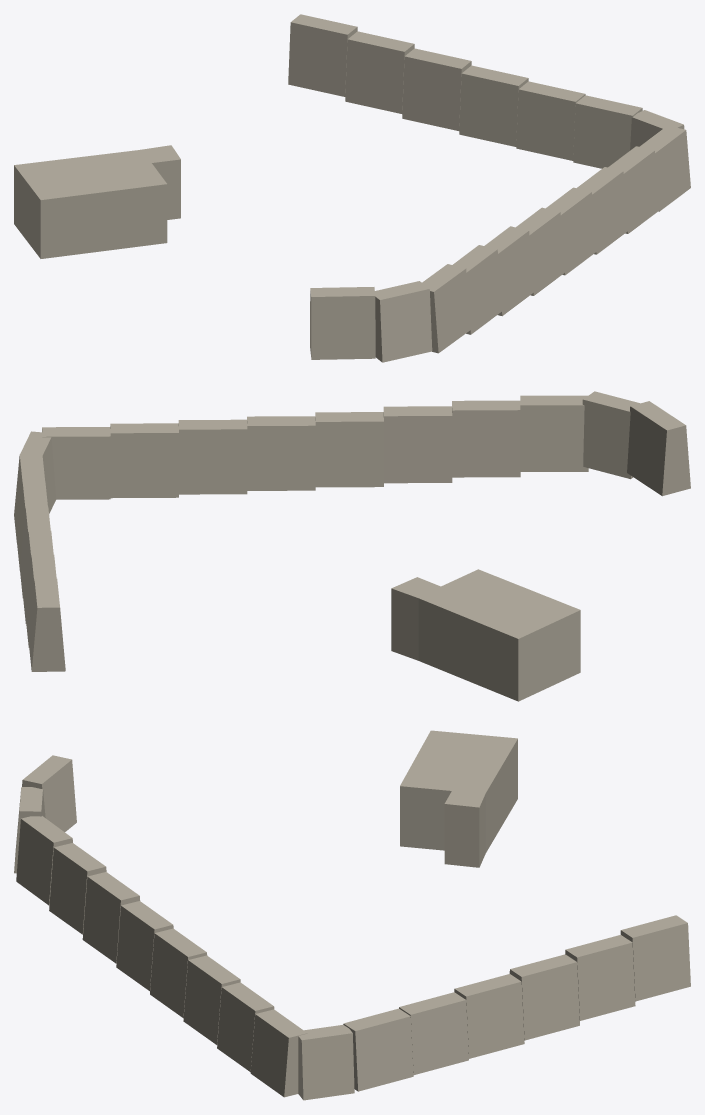
Rendered from bormla_65_30_mid.glb.
3 renders of one model, top to bottom at view 1: azimuth 30°, elevation 25°; view 2: azimuth 150°, elevation 25°; view 3: azimuth 270°, elevation 25°, orthographic. The views are drawn at different scales.
Parts seen in each view (by area): view 1: geometry_0; view 2: geometry_0; view 3: geometry_0.
Boxes of the visible parts, x1,y1,x2,y2 form: geometry_0: [14, 14, 690, 362]; geometry_0: [14, 391, 690, 701]; geometry_0: [14, 730, 690, 1100].
Size of the model in its own units: 126 by 19.38 by 124.
